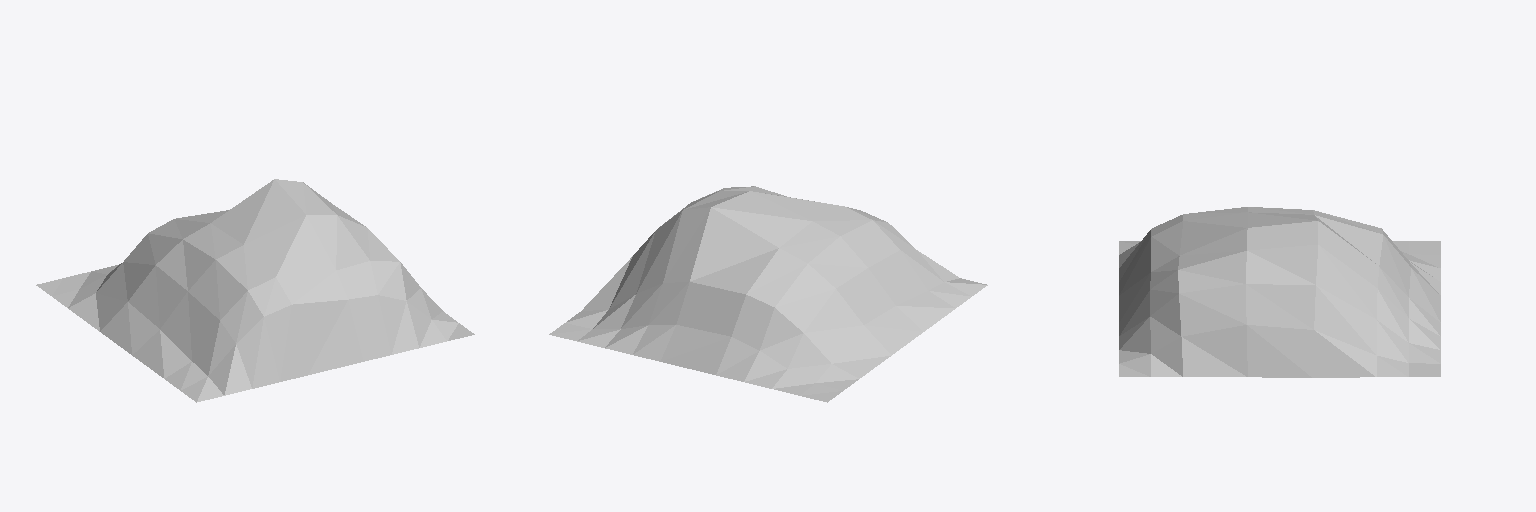
The model's file is MODEL_dirtLarge_1.obj.
3 renders of one model, left to right at view 1: azimuth 30°, elevation 25°; view 2: azimuth 150°, elevation 25°; view 3: azimuth 270°, elevation 25°, orthographic.
Visible parts, largest first — view 1: dirt_large dirt; view 2: dirt_large dirt; view 3: dirt_large dirt.
Part boxes in pixels (x1,y1,x2,y2): dirt_large dirt: (36, 179, 474, 402); dirt_large dirt: (549, 186, 987, 402); dirt_large dirt: (1119, 207, 1440, 377).
Size of the model in its own units: 49.39 by 18.1 by 49.18.